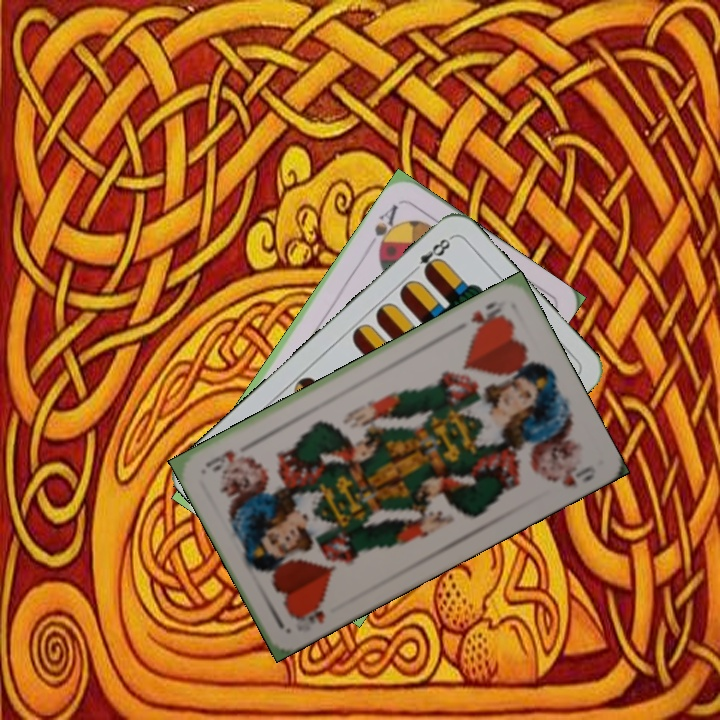E8: (406, 233, 455, 278)
HO: (466, 297, 507, 333), (288, 596, 328, 627)
SA: (370, 199, 401, 255)
